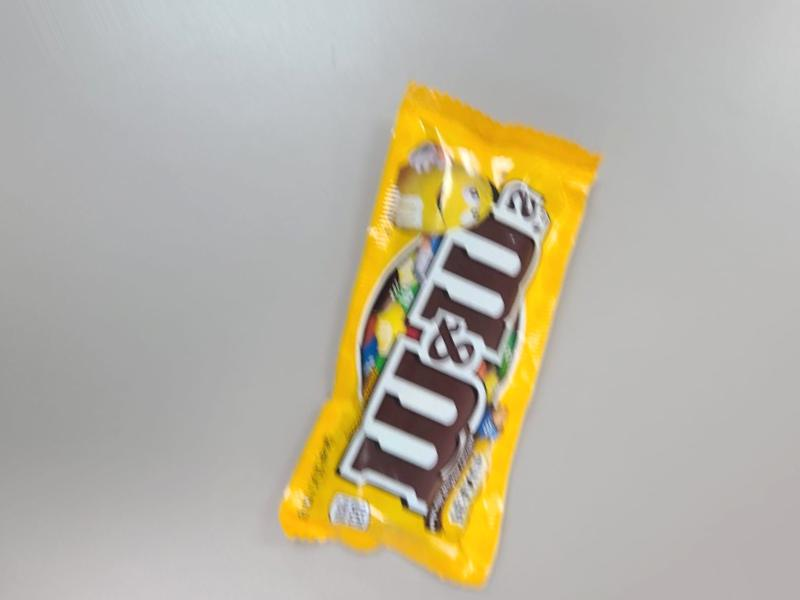m&m: (334, 154, 644, 600)
